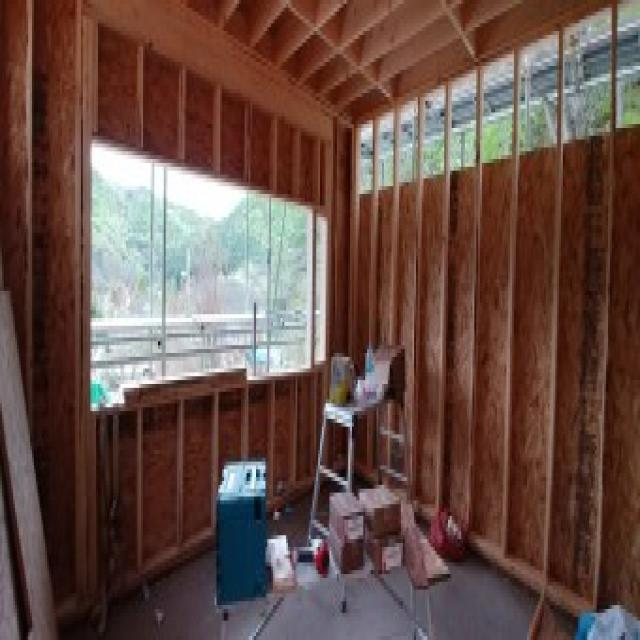board: (0, 286, 58, 639)
stud: (347, 0, 640, 617), (90, 13, 334, 605), (178, 0, 630, 130)
